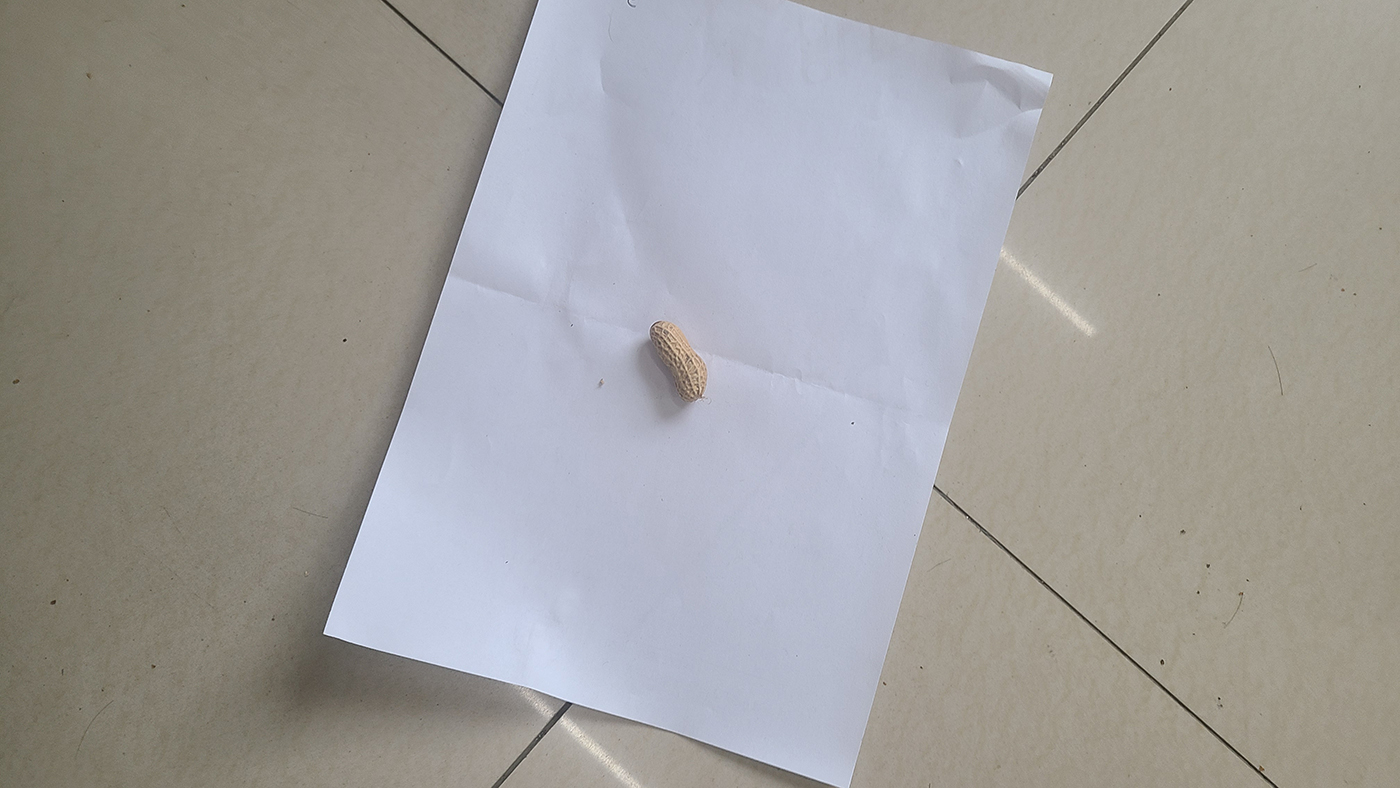h: (649, 321, 709, 402)
